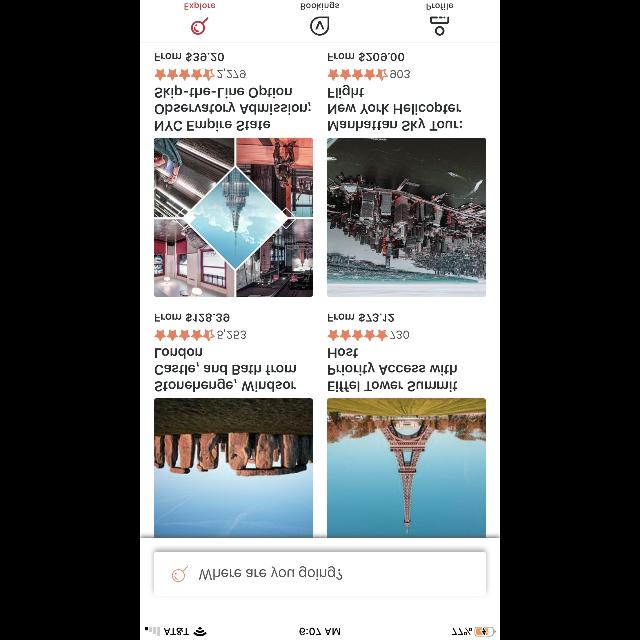icon: (328, 69, 388, 81), (155, 69, 215, 81), (155, 329, 215, 341), (328, 330, 388, 340), (430, 16, 450, 36), (192, 18, 208, 34), (172, 566, 188, 582)
image: (154, 138, 314, 296), (328, 138, 487, 296), (154, 398, 314, 538), (328, 398, 487, 538), (310, 16, 330, 36)
input: (154, 552, 486, 594)
text: (156, 102, 310, 115), (200, 566, 342, 580), (154, 362, 296, 376), (156, 378, 296, 392), (328, 118, 462, 132), (328, 362, 456, 376), (155, 85, 291, 98), (328, 102, 462, 115), (156, 118, 270, 132), (329, 382, 457, 392), (328, 52, 404, 62), (155, 312, 229, 322), (154, 52, 223, 62), (328, 313, 394, 323), (328, 85, 364, 98), (156, 348, 202, 358), (301, 2, 339, 10), (328, 348, 358, 358), (218, 68, 246, 78), (218, 329, 246, 339), (184, 2, 216, 10), (390, 70, 410, 78), (390, 331, 410, 339), (427, 4, 453, 10)
uppertaskbar: (140, 626, 500, 640)
